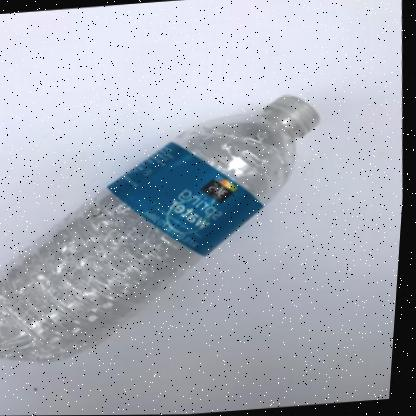Plastic: (0, 96, 320, 363)
